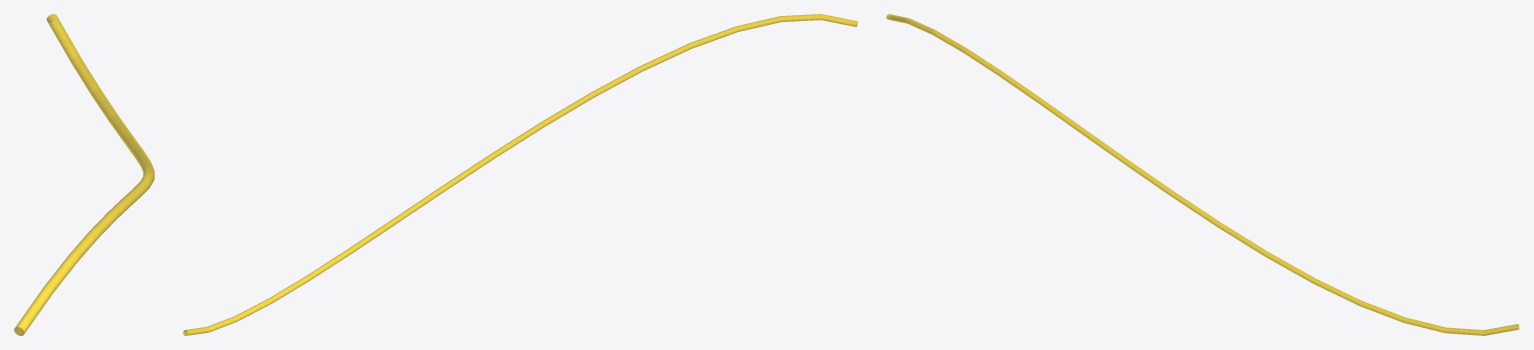
File: Event_100608114_track_75.fbx
The picture shows the model from 3 angles, left to right: view 1: azimuth 90°, elevation 25°; view 2: azimuth 210°, elevation 25°; view 3: azimuth 330°, elevation 25°; orthographic projection. The views are drawn at different scales.
Parts seen in each view (by area): view 1: Model; view 2: Model; view 3: Model.
Boxes of the visible parts, x1,y1,x2,y2 form: Model: (14,14,154,335); Model: (183,14,857,335); Model: (886,14,1519,335).
Bounding box in the file's own units: 5.01 × 1.29 × 0.4979.
